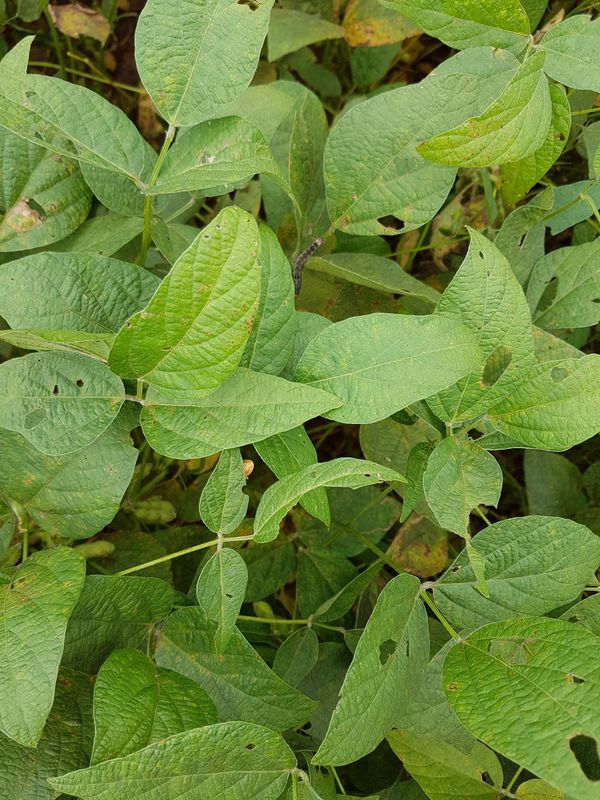Spodoptera_albula: (274, 229, 334, 308)
